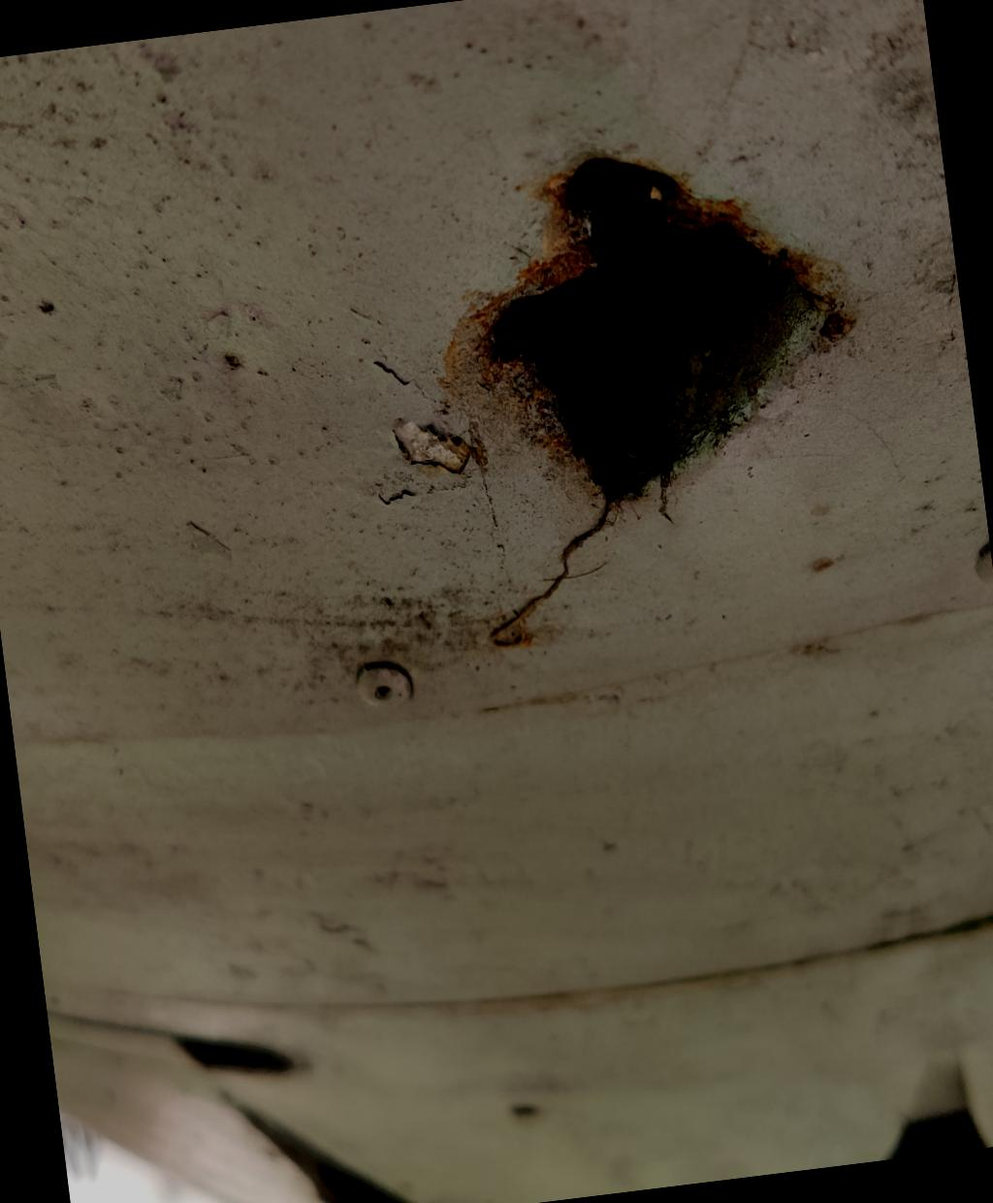crack: (383, 62, 942, 699)
